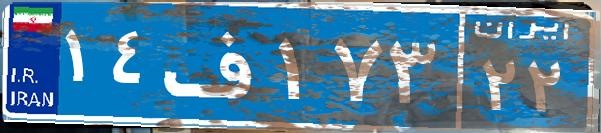1: (273, 28, 330, 110), (57, 26, 110, 107)
2: (475, 38, 525, 113), (525, 38, 570, 115)
3: (385, 28, 445, 110)
4: (110, 28, 158, 105)
7: (330, 28, 385, 110)
ف: (158, 15, 273, 115)
